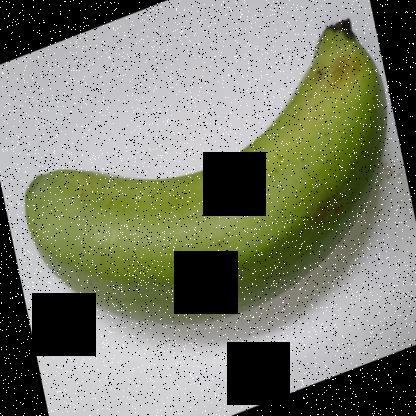freshunripe: (15, 9, 392, 332)
